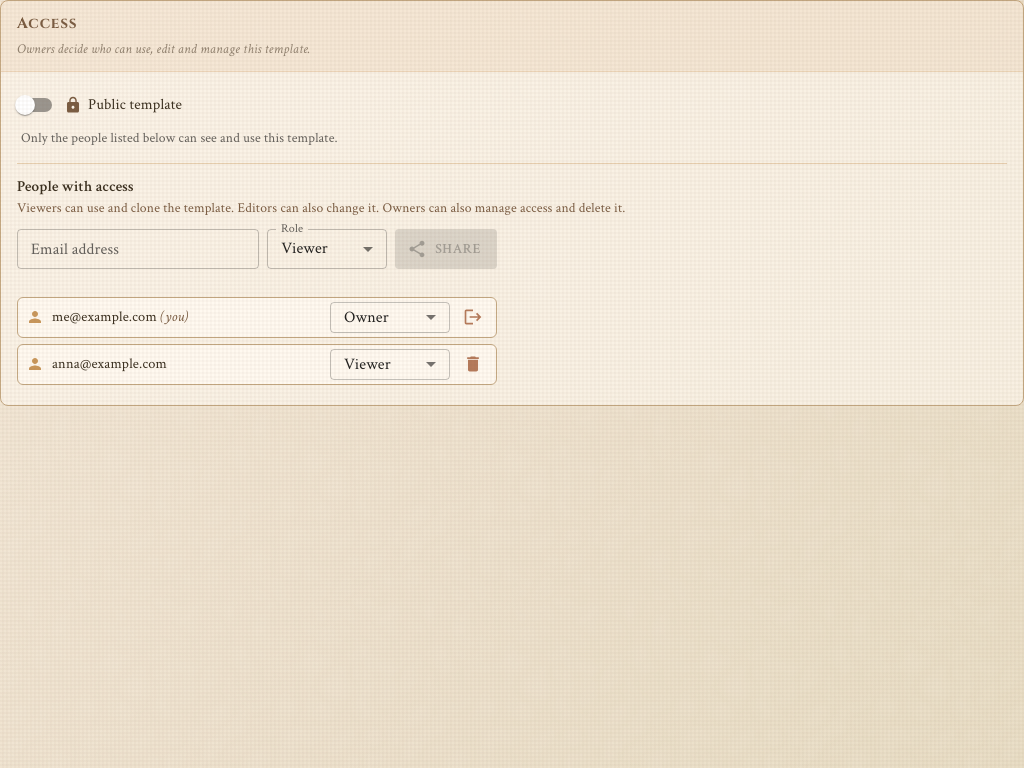
demoting the last owner shows the server refusal
Press the mouse on the dropdown named "Role of me@example.com" at (366, 317), box top-left (344, 307), bottom-right (389, 328)
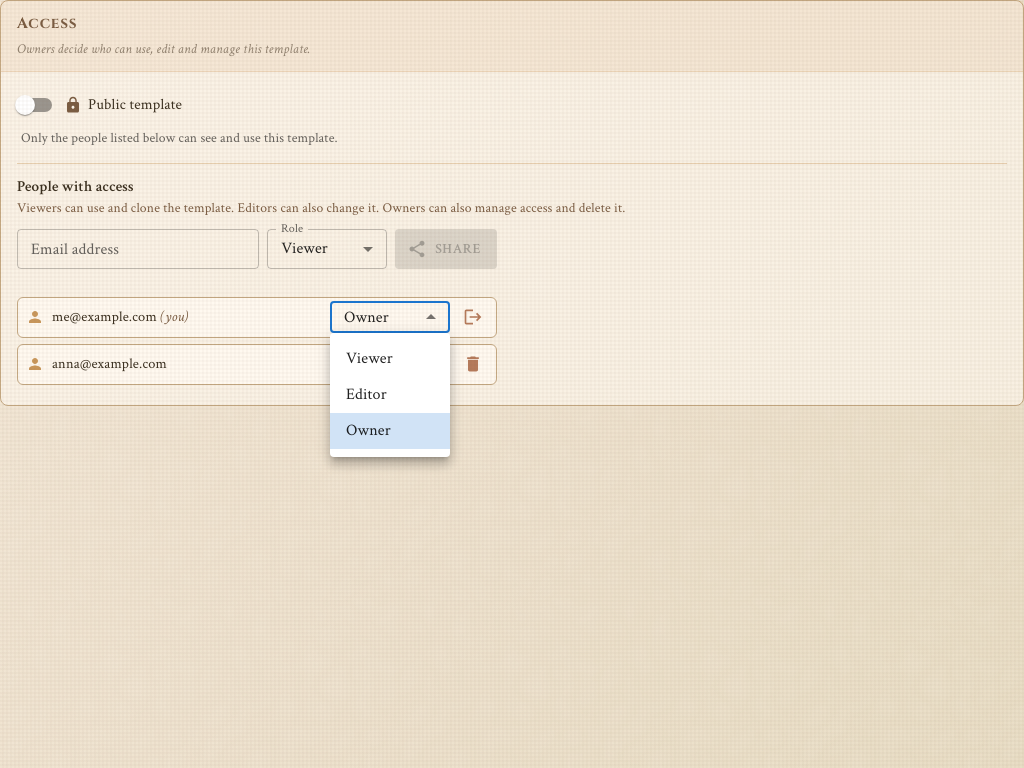
Click the option "Editor" at (366, 394), box top-left (346, 384), bottom-right (387, 405)
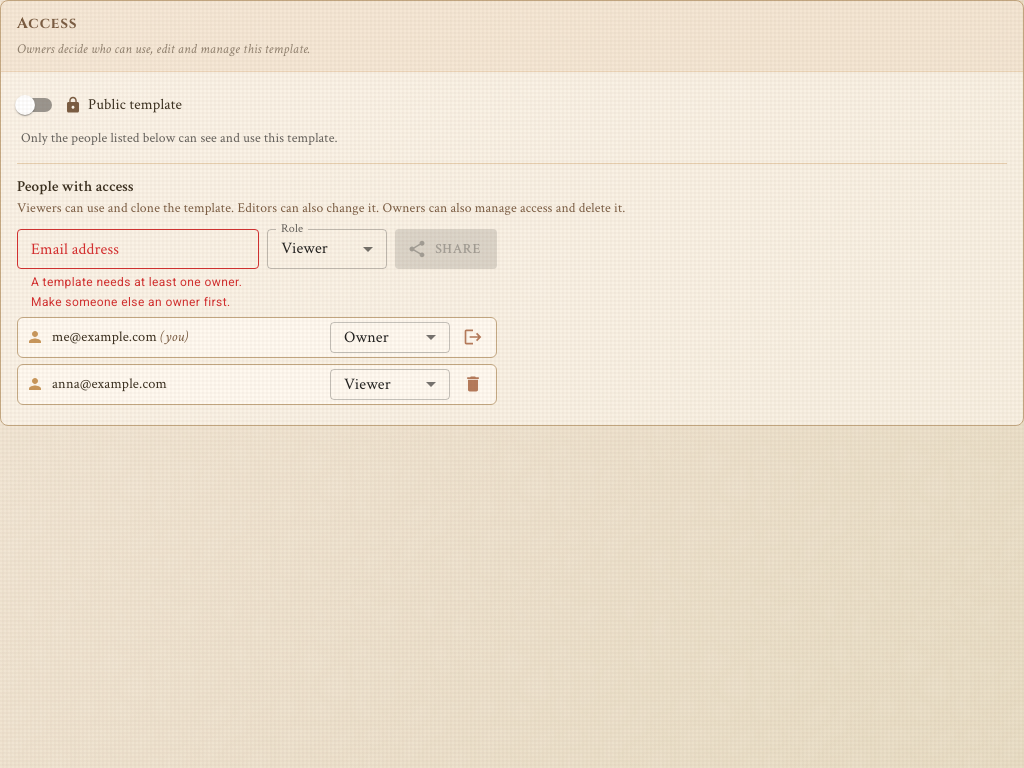
Check: the text "needs at least one owner" is shown, box top-left (31, 275), bottom-right (242, 309)
